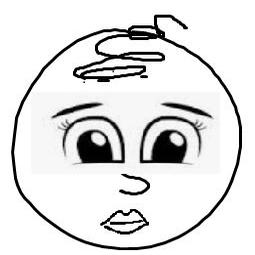cupid_mouth: (96, 206, 152, 240)
eye: (50, 117, 128, 173), (138, 115, 213, 169)
eyebrow: (162, 100, 215, 122), (52, 100, 105, 119)
nose: (115, 168, 152, 197)
